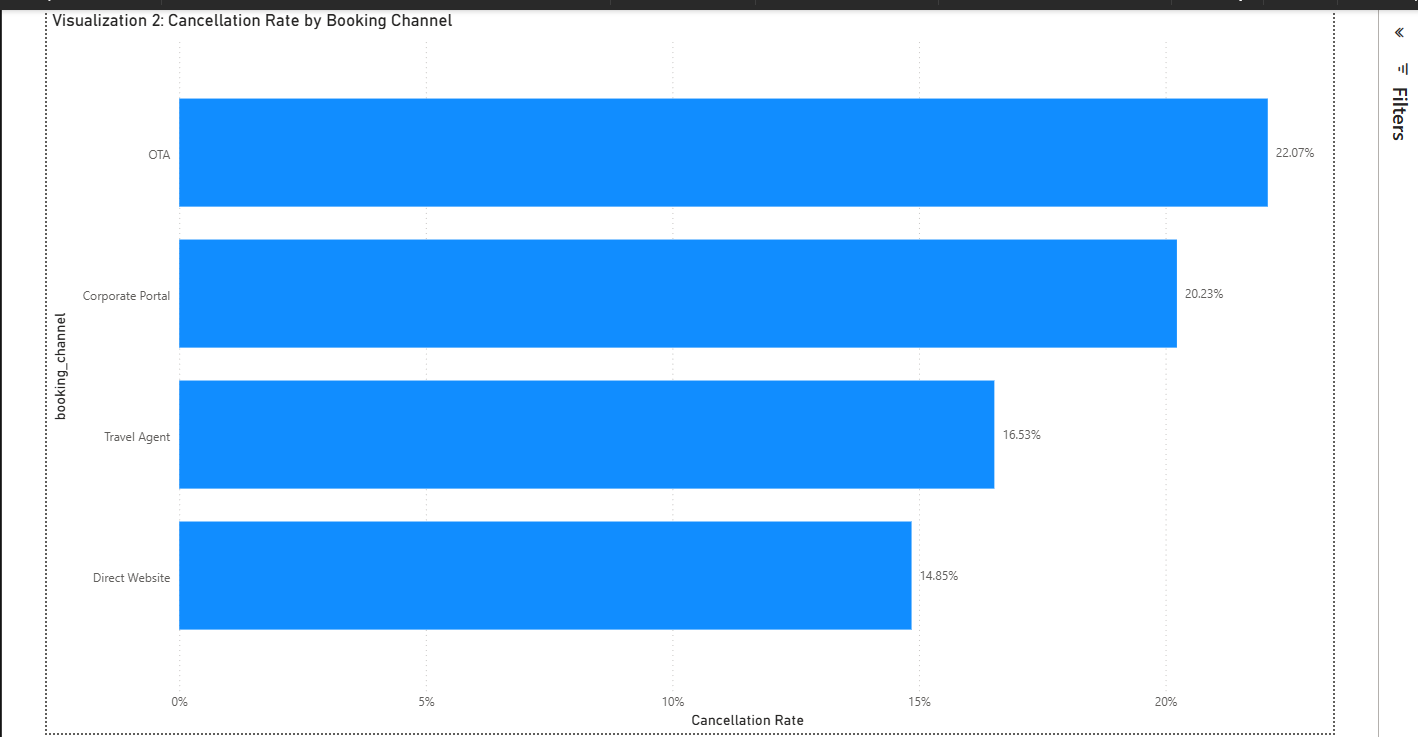

The dashboard page shown, as its layout file describes it:
{"tool":"powerbi","page":{"name":"Page 2","canvas":[1280,720],"ordinal":1},"visuals":[{"type":"clusteredBarChart","title":"Visualization 2: Cancellation Rate by Booking Channel","fields":{"Category":["hotel_booking hotel_bookings.booking_channel"],"Y":["hotel_booking hotel_bookings.Cancellation Rate"]},"box":[0,0,1280.3,720.4],"z":0}]}

Visuals, with their boxes on the page's 1280x720 design canvas (x1, y1, x2, y2). These are canvas units, not pixel positions in the 1418x737 screenshot, which may show the page scaled, cropped or inside an application window:
"Visualization 2: Cancellation Rate by Booking Channel" clusteredBarChart: (0, 0, 1280, 720)
